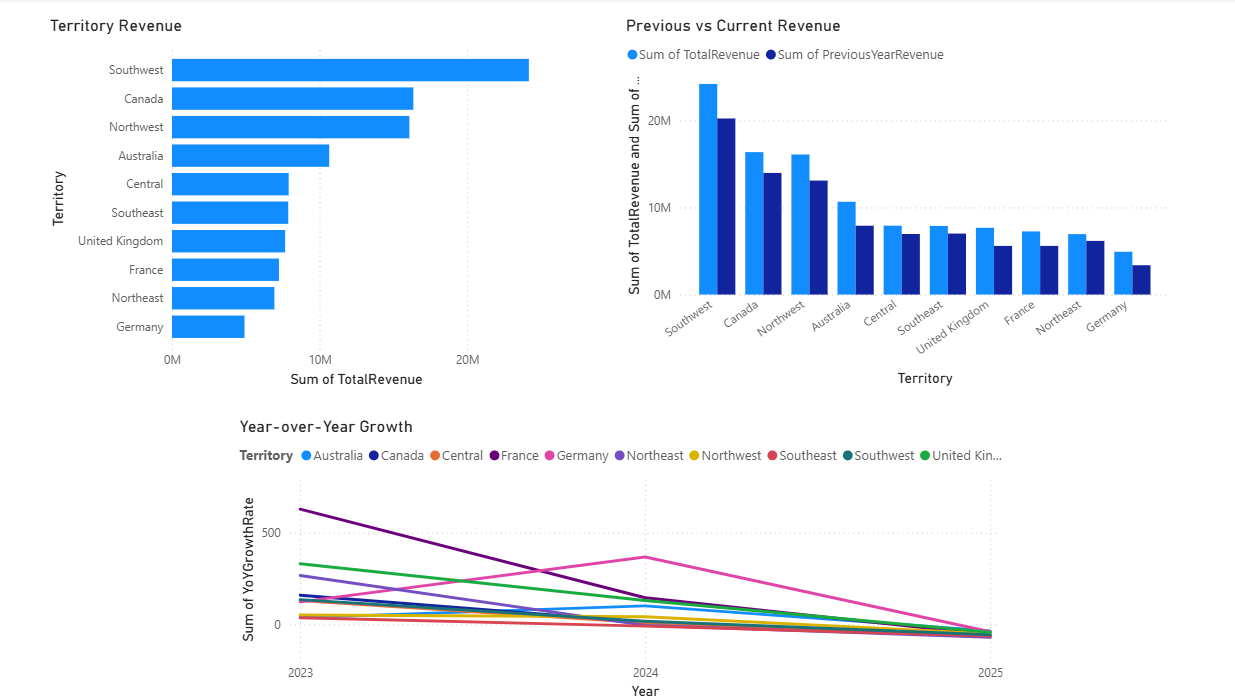

What the dashboard file says about the page in this screenshot:
{"tool":"powerbi","page":{"name":"Sales Territory","canvas":[1280,720],"ordinal":3},"visuals":[{"type":"barChart","title":"Territory Revenue","fields":{"Category":["vw_territory_yoy_growth.Territory"],"Y":["Sum(vw_territory_yoy_growth.TotalRevenue)"]},"box":[51.4,18.6,522.8,382.8],"z":0},{"type":"lineChart","title":"Year-over-Year Growth","fields":{"Category":["vw_territory_yoy_growth.Year"],"Series":["vw_territory_yoy_growth.Territory"],"Y":["Sum(vw_territory_yoy_growth.YoYGrowthRate)"]},"box":[245.7,427.1,788.4,292.8],"z":1},{"type":"clusteredColumnChart","title":"Previous vs Current Revenue","fields":{"Category":["vw_territory_yoy_growth.Territory"],"Y":["Sum(vw_territory_yoy_growth.TotalRevenue)","Sum(vw_territory_yoy_growth.PreviousYearRevenue)"]},"box":[639.9,18.6,564.2,382.8],"z":2}]}

Visuals, with their boxes in screenshot pixels (x1, y1, x2, y2), scaled from the page's 1280x720 canvas onto the 1235x696 screenshot:
"Territory Revenue" barChart: 50 18 554 388
"Year-over-Year Growth" lineChart: 237 413 998 695
"Previous vs Current Revenue" clusteredColumnChart: 617 18 1162 388
